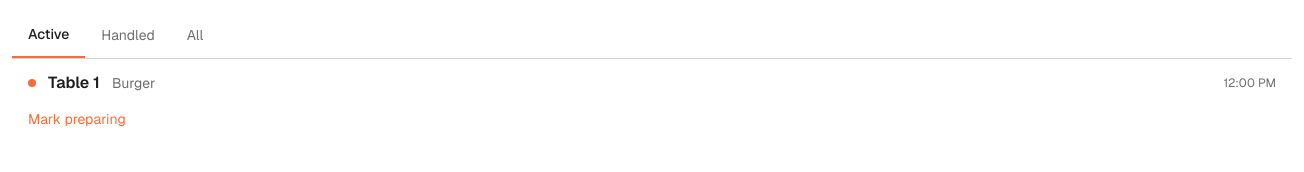
it: OrderFeed › Handled tab shows only completed orders
Click the tab "Handled" at (128, 35), box 85,12 -> 171,58
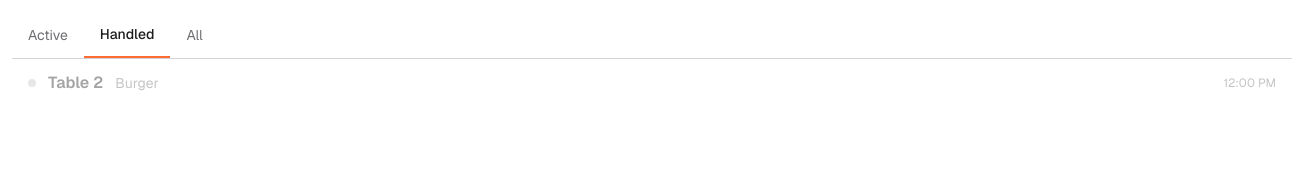
Expected: the button "Table 1" is gone
Expected: the text "Table 2" is shown, 48,71 -> 103,95
